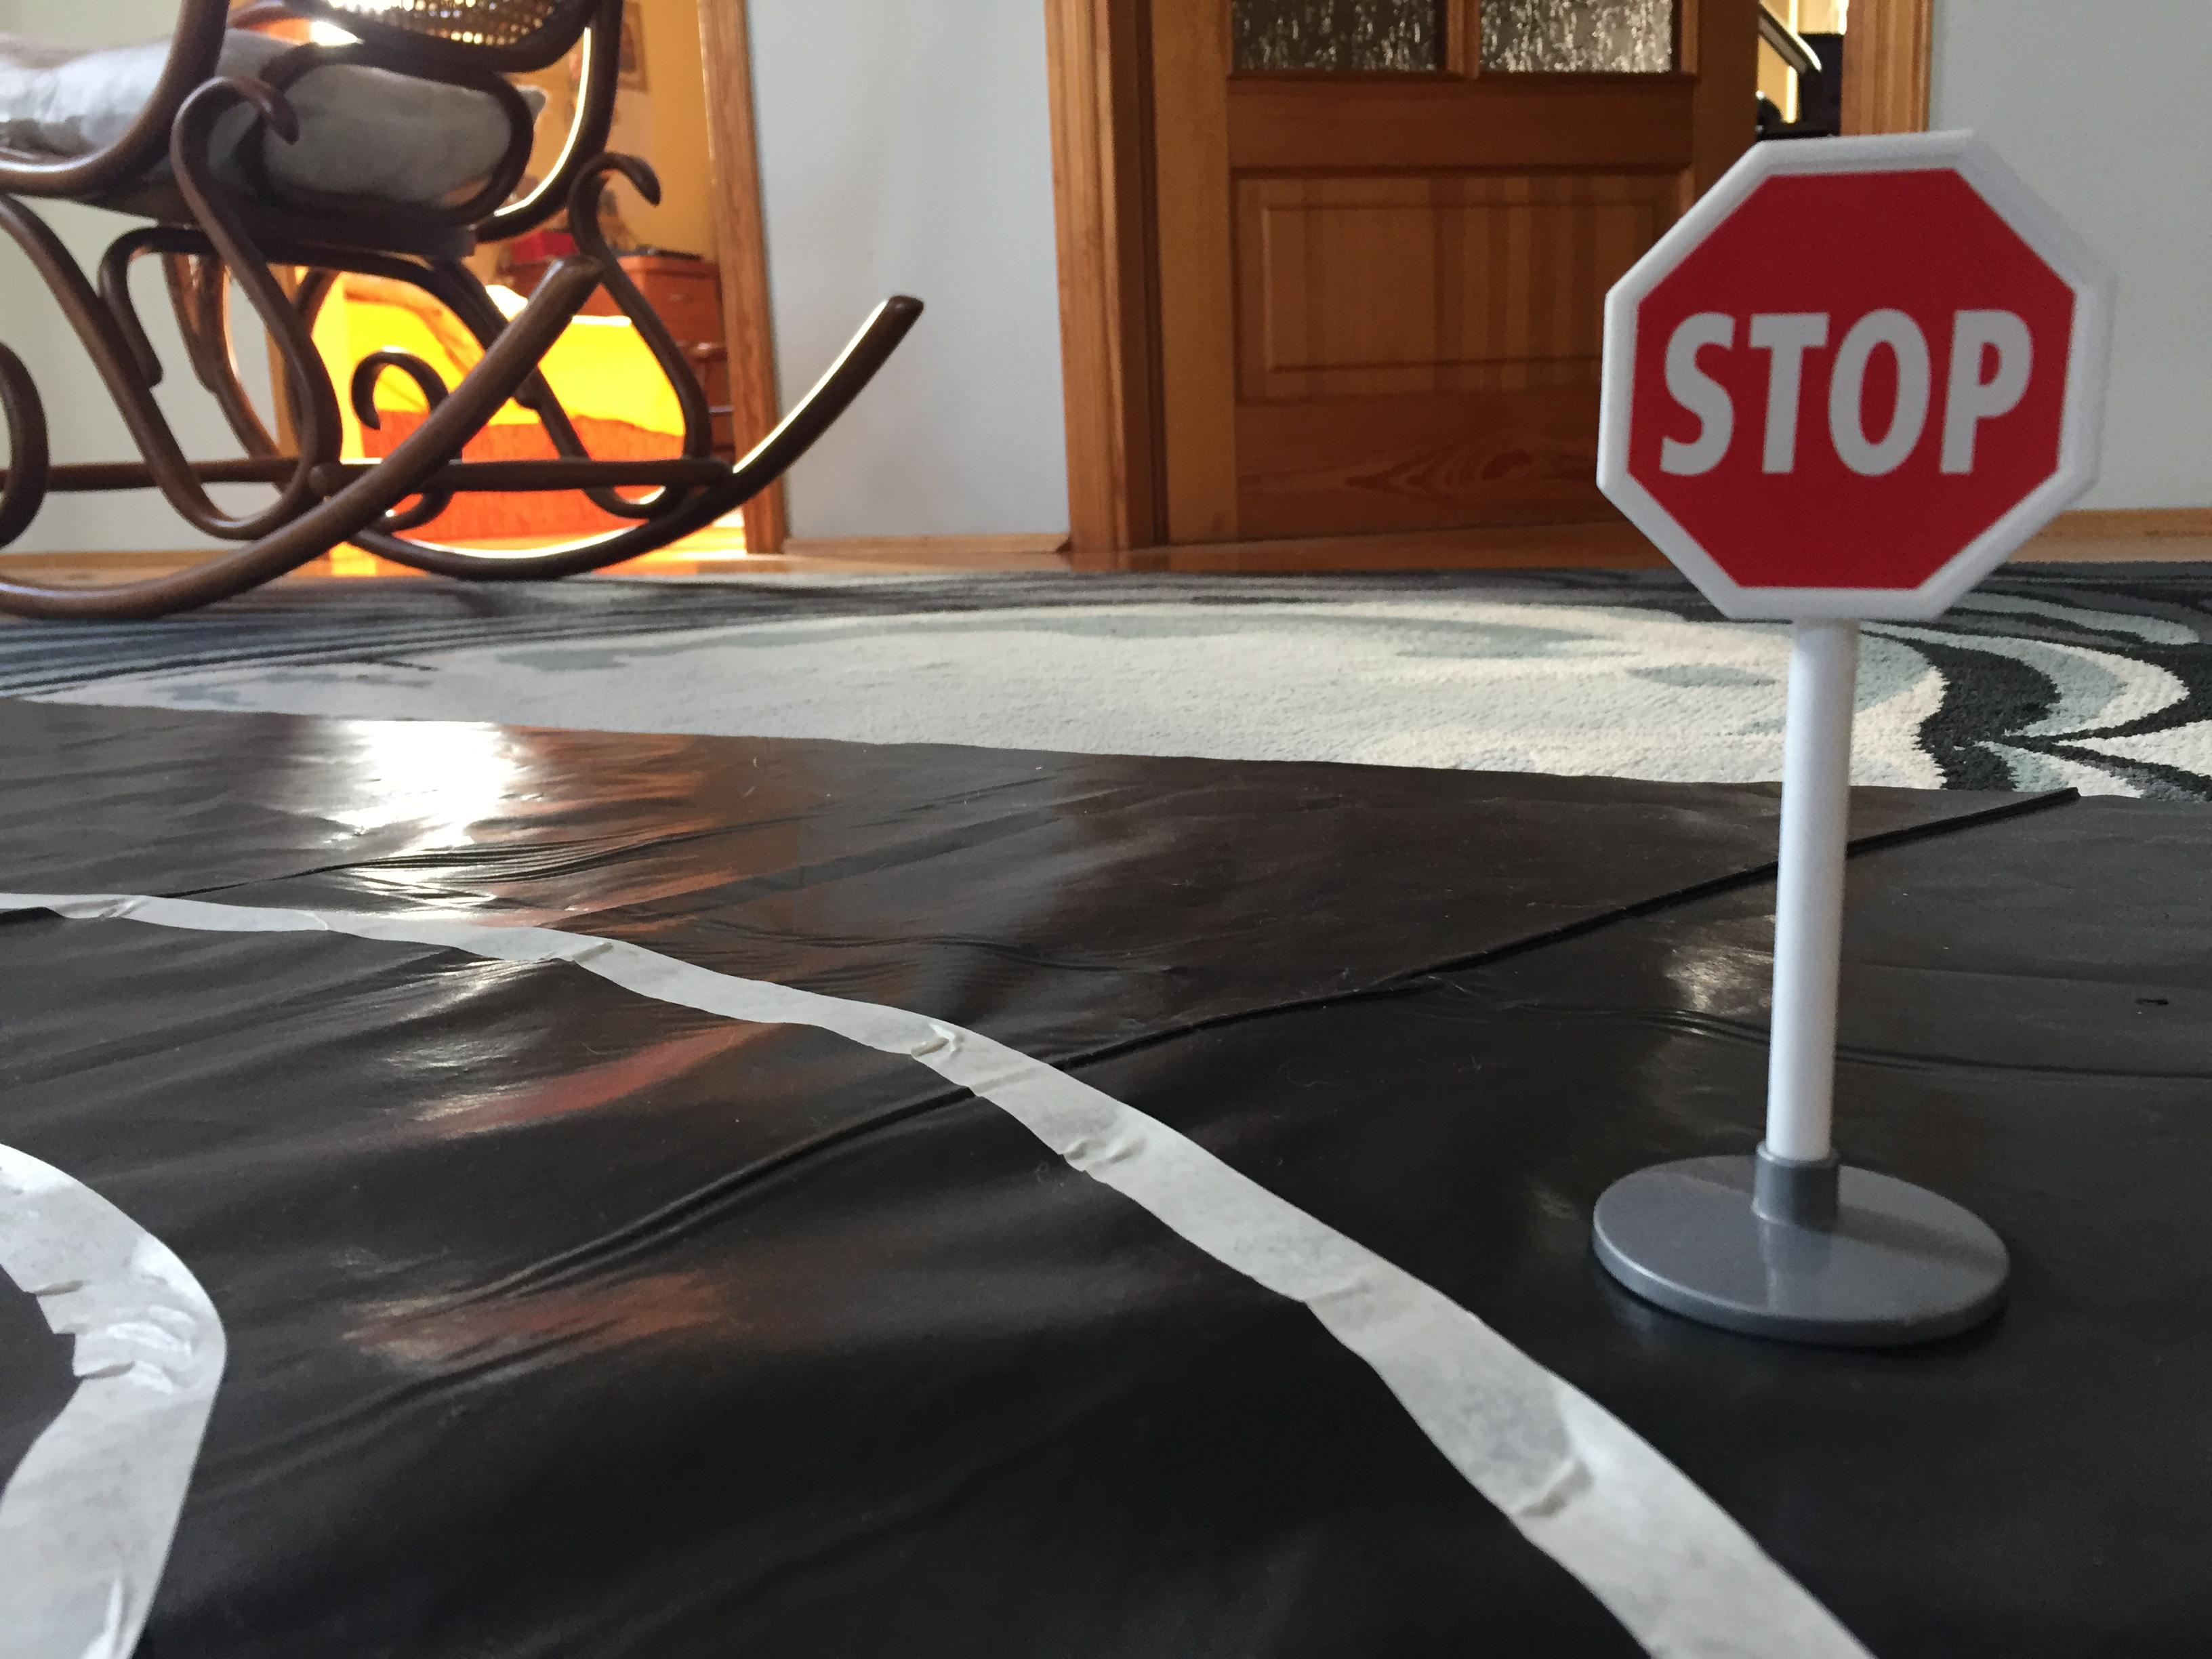stop: (1587, 119, 2137, 641)
